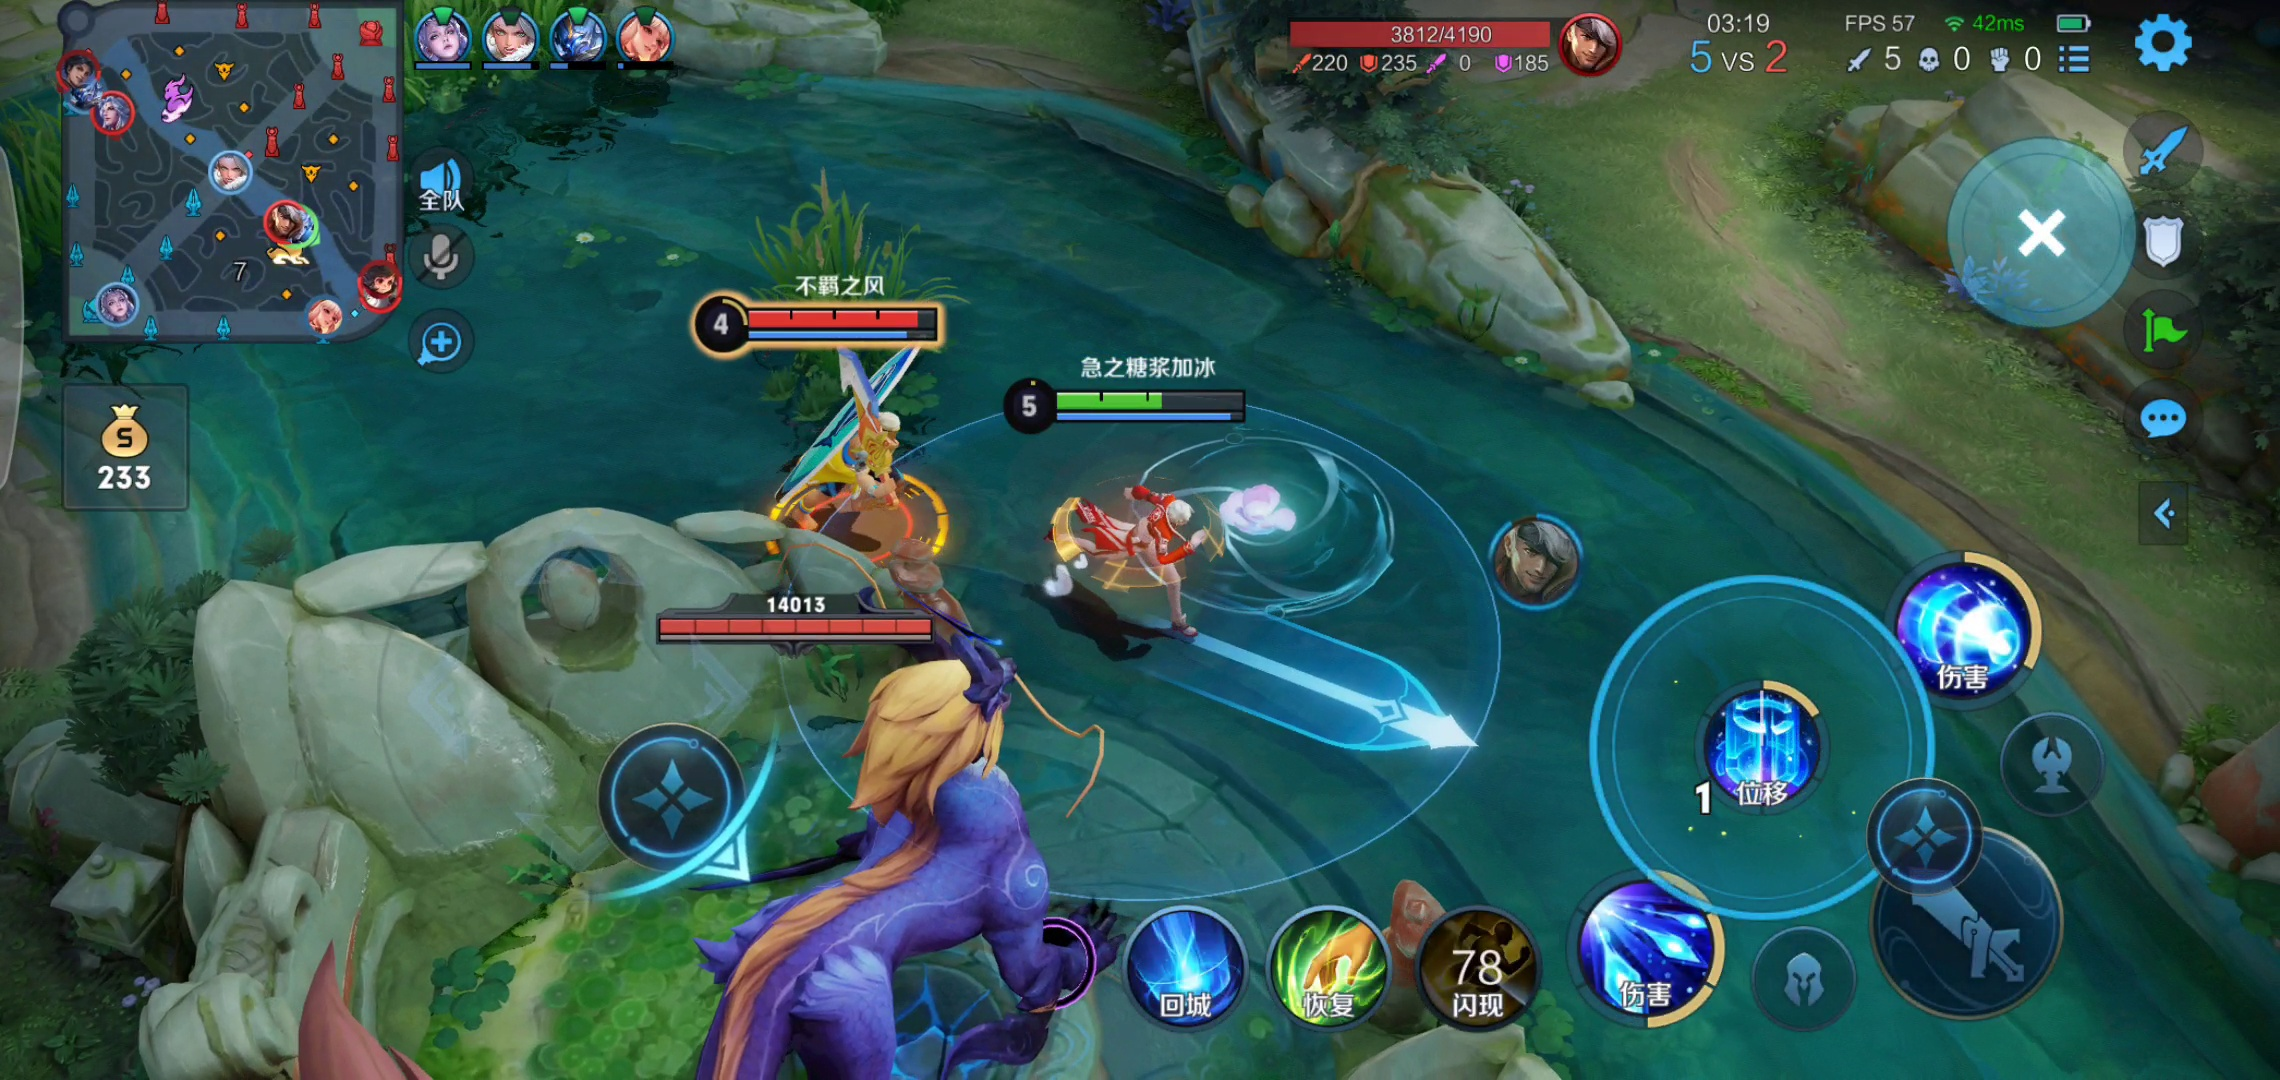dragon: (587, 651, 1224, 1080)
grass: (718, 201, 968, 403)
hero: (1028, 470, 1253, 635), (769, 371, 934, 557)
